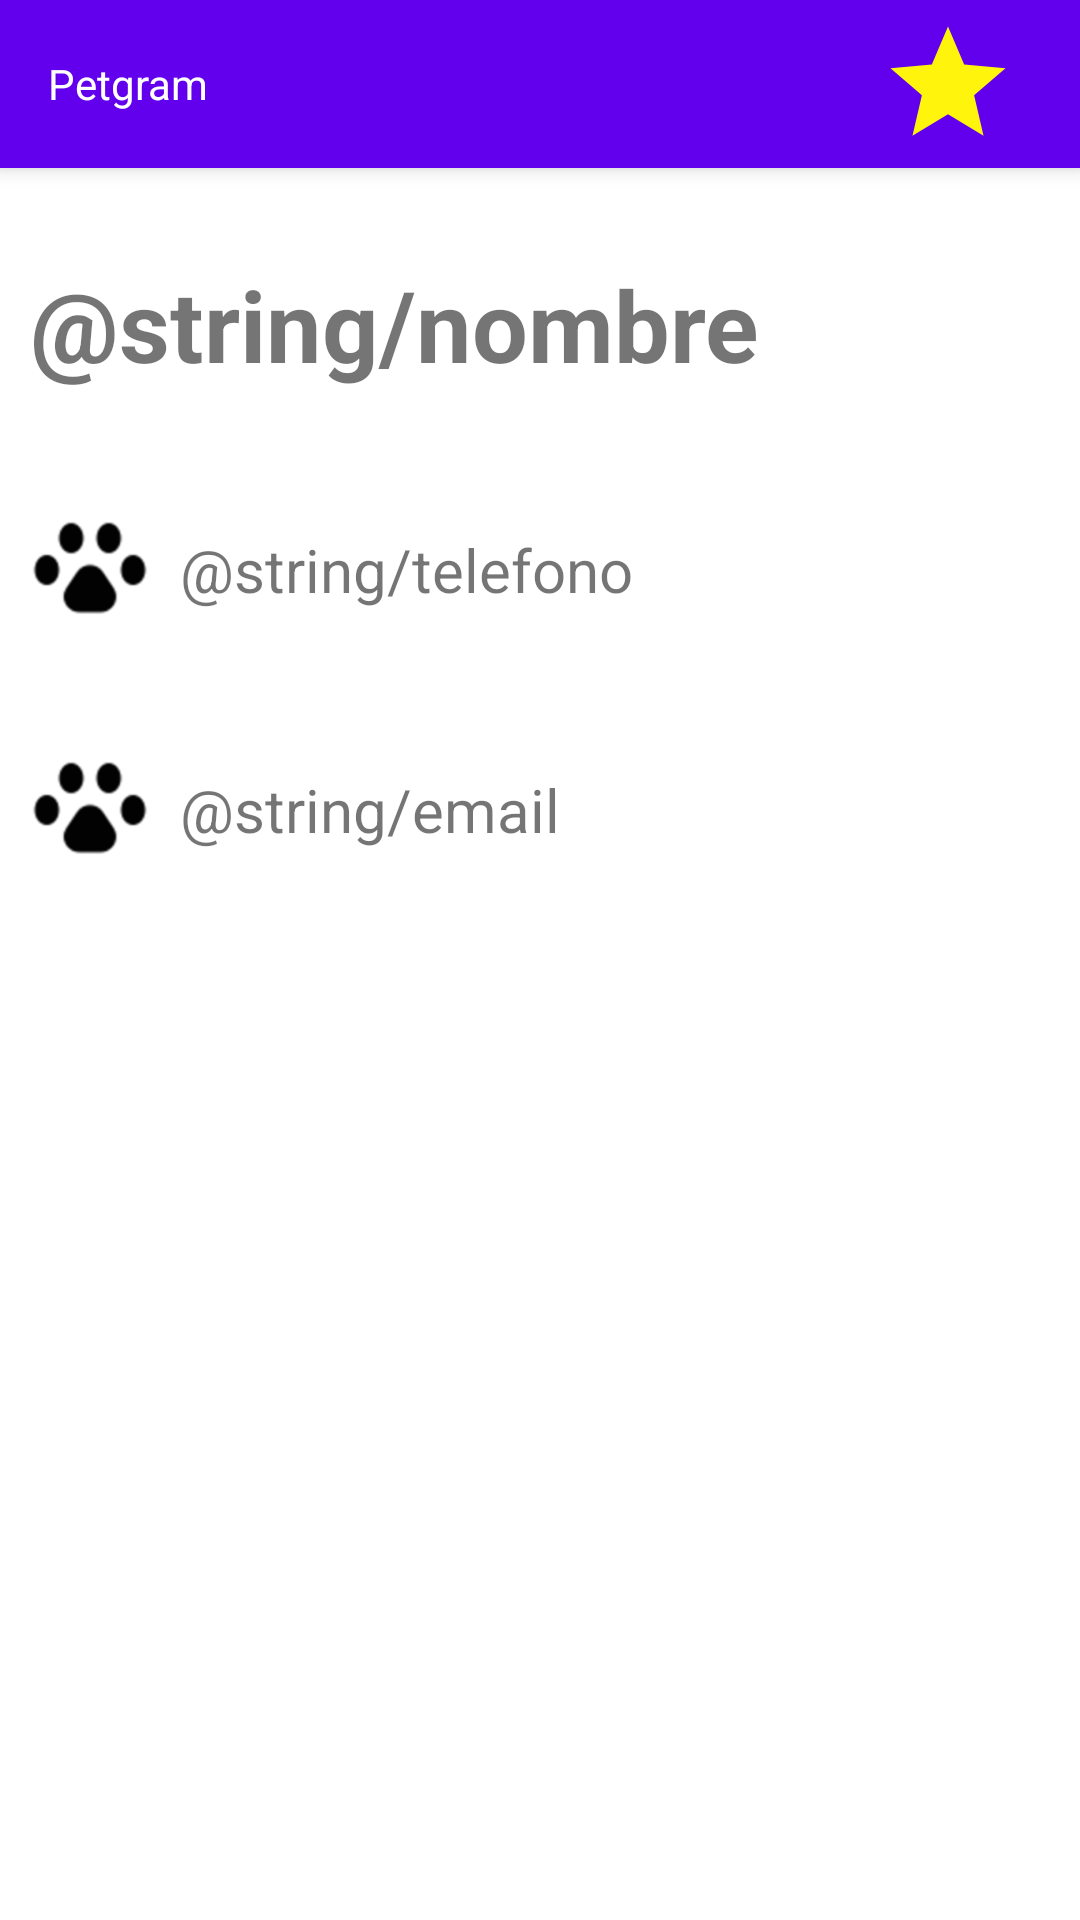

Icon bounding boxes for this 1080px×1920px phone screenshot, format (x1, y1, x2, y2):
huella: (33, 522, 147, 614), (33, 762, 147, 854)
star: (890, 27, 1006, 136)
